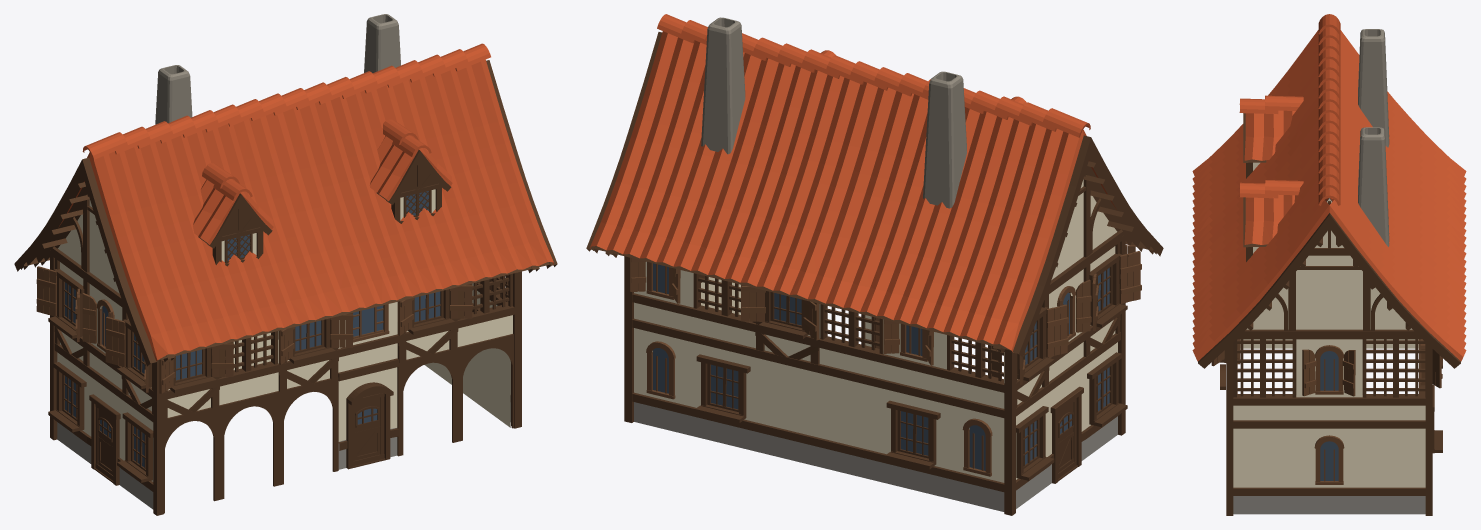
Rendered from inn.obj.
The picture shows the model from 3 angles, left to right: view 1: azimuth 30°, elevation 25°; view 2: azimuth 150°, elevation 25°; view 3: azimuth 270°, elevation 25°; orthographic projection. The views are drawn at different scales.
Bounding box in the file's own units: 13.66 × 11.8 × 8.25.
